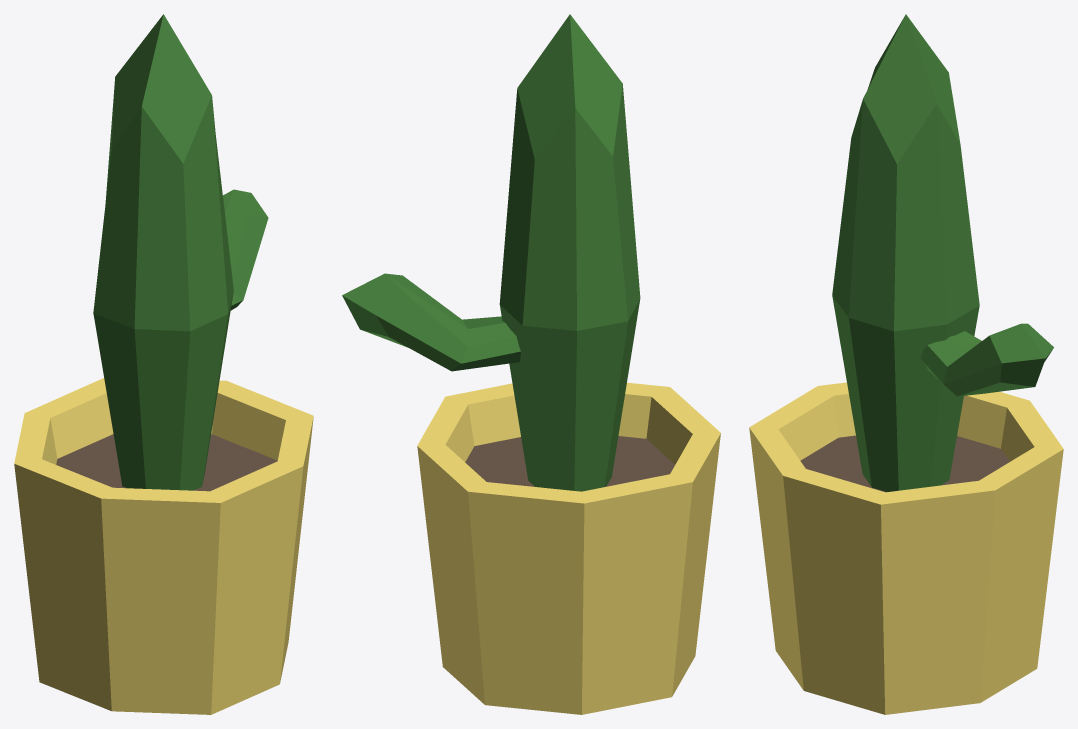
File: Flower_17.fbx
3 renders of one model, left to right at view 1: azimuth 30°, elevation 25°; view 2: azimuth 150°, elevation 25°; view 3: azimuth 270°, elevation 25°, orthographic.
Parts seen in each view (by area): view 1: Flower_17; view 2: Flower_17; view 3: Flower_17.
Part boxes in pixels (x1=…): Flower_17: x1=14, y1=14, x2=313, y2=714; Flower_17: x1=342, y1=14, x2=720, y2=714; Flower_17: x1=749, y1=14, x2=1063, y2=714.
Size of the model in its own units: 27.48 by 25.56 by 57.86.
